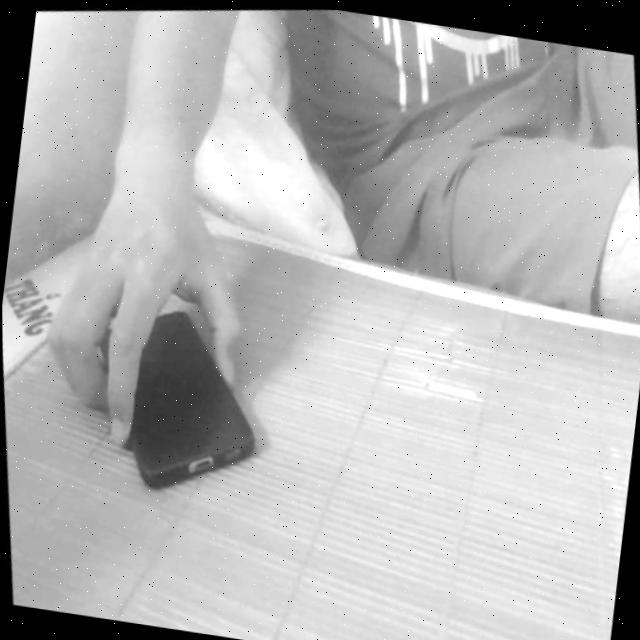phone: (63, 256, 297, 532)
